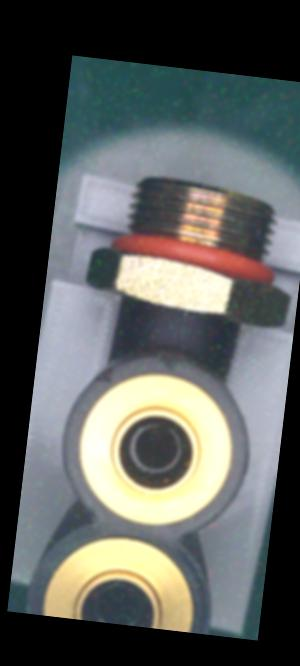bump: (150, 349, 190, 376), (88, 358, 122, 388)
joint line: (170, 308, 183, 347)
white mark: (180, 309, 192, 327)
